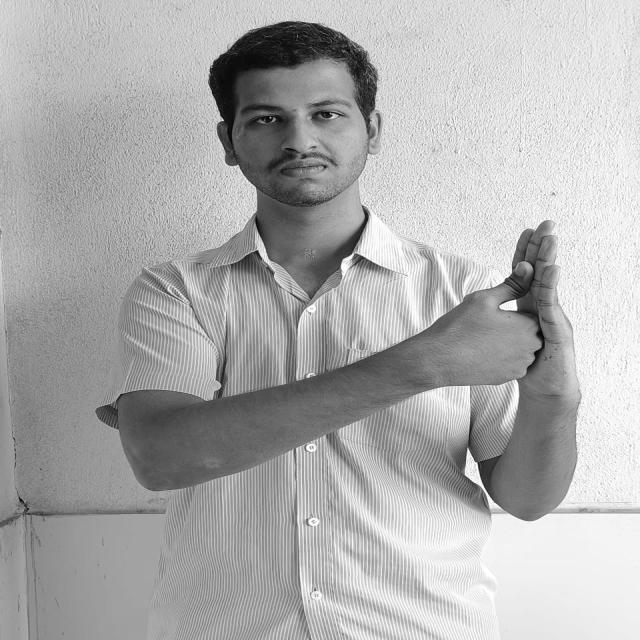Well Done: (437, 217, 582, 407)
